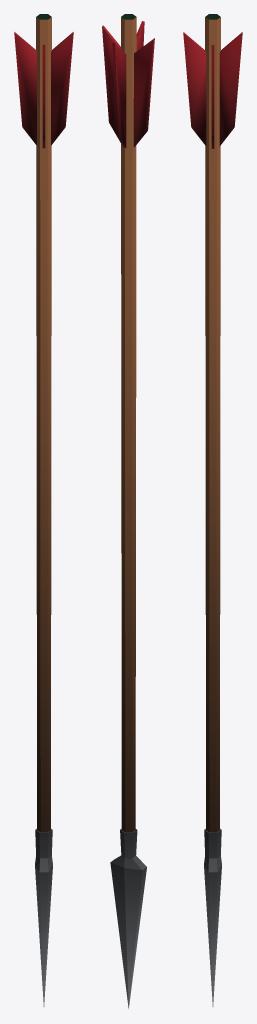
File: Arrow.fbx
3 renders of one model, left to right at view 1: azimuth 90°, elevation 25°; view 2: azimuth 150°, elevation 25°; view 3: azimuth 270°, elevation 25°, orthographic.
Visible parts, largest first — view 1: Arrow; view 2: Arrow; view 3: Arrow.
Part boxes in pixels (bbox=[...]): Arrow: bbox=[14, 14, 73, 1006]; Arrow: bbox=[102, 14, 154, 1008]; Arrow: bbox=[183, 14, 242, 1006].
Bounding box in the file's own units: 3.93 × 72.36 × 3.93.
1 material, 1 textured.
